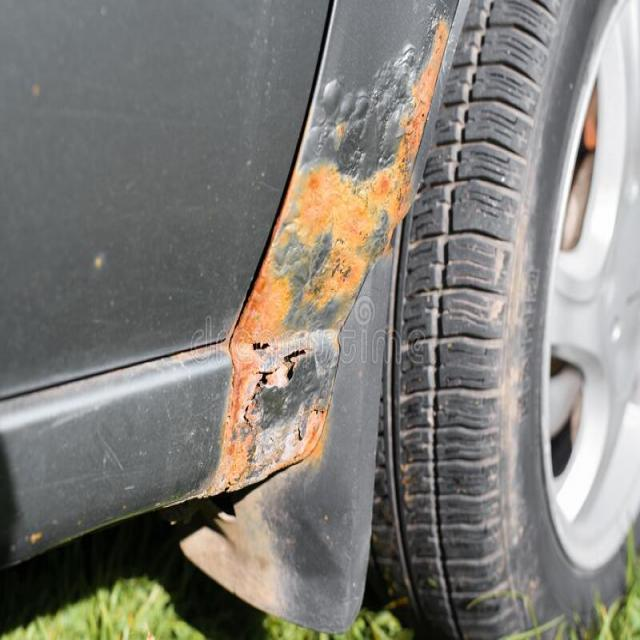Corrosion: (302, 165, 400, 282), (231, 250, 289, 352), (211, 338, 248, 492), (384, 126, 422, 238), (412, 25, 445, 148), (315, 239, 366, 318), (262, 336, 310, 389), (289, 410, 327, 464)
